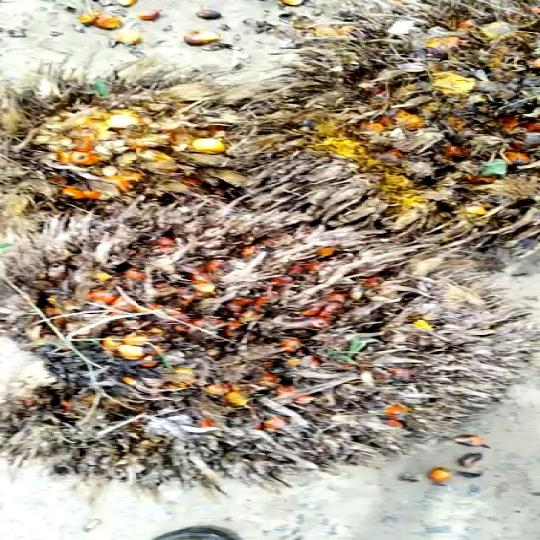terlalu masak: (0, 208, 540, 487), (0, 73, 296, 226)
